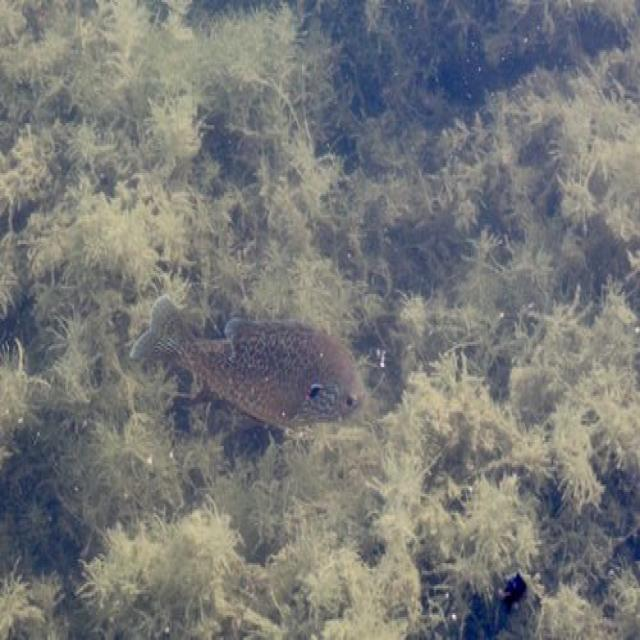Gunes Levregi: (125, 292, 372, 445)
